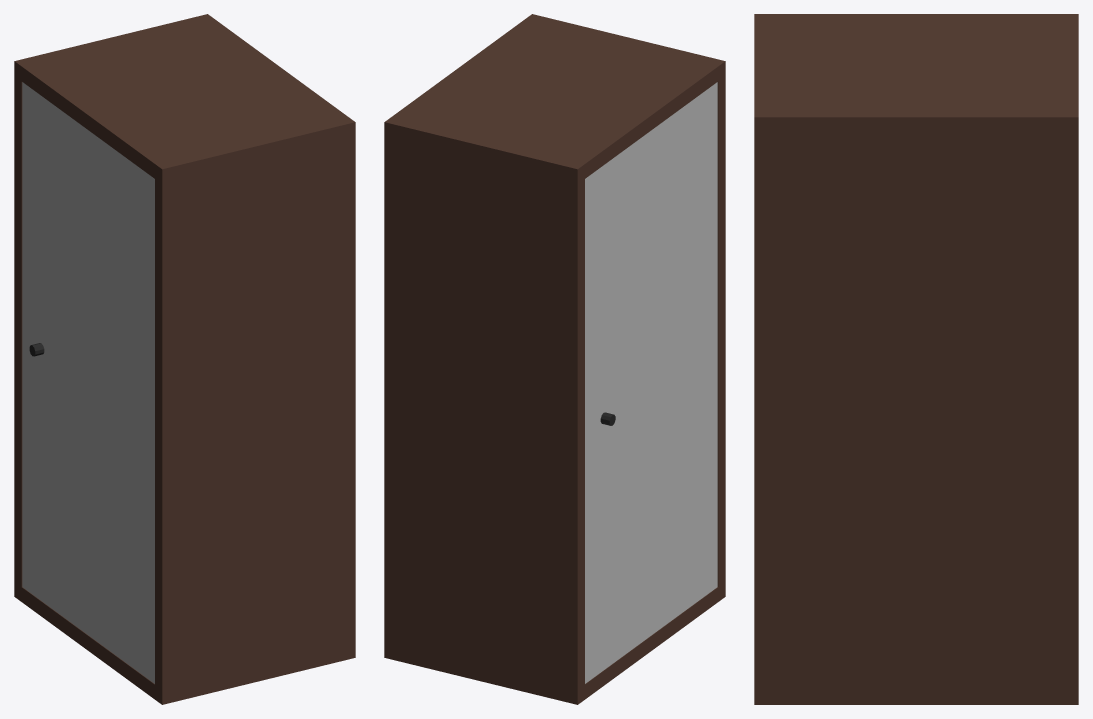
File: Cabinet102.fbx
The picture shows the model from 3 angles, left to right: view 1: azimuth 30°, elevation 25°; view 2: azimuth 150°, elevation 25°; view 3: azimuth 270°, elevation 25°; orthographic projection. The views are drawn at different scales.
Parts seen in each view (by area): view 1: Body102, Door102; view 2: Body102, Door102; view 3: Body102.
Boxes of the visible parts, box(x1,y1,x2,y2) form: Body102: box(14, 14, 355, 704); Door102: box(22, 82, 154, 683); Body102: box(384, 14, 725, 704); Door102: box(585, 82, 717, 683); Body102: box(754, 14, 1078, 704).
Bounding box in the file's own units: 78.85 × 200 × 100.
